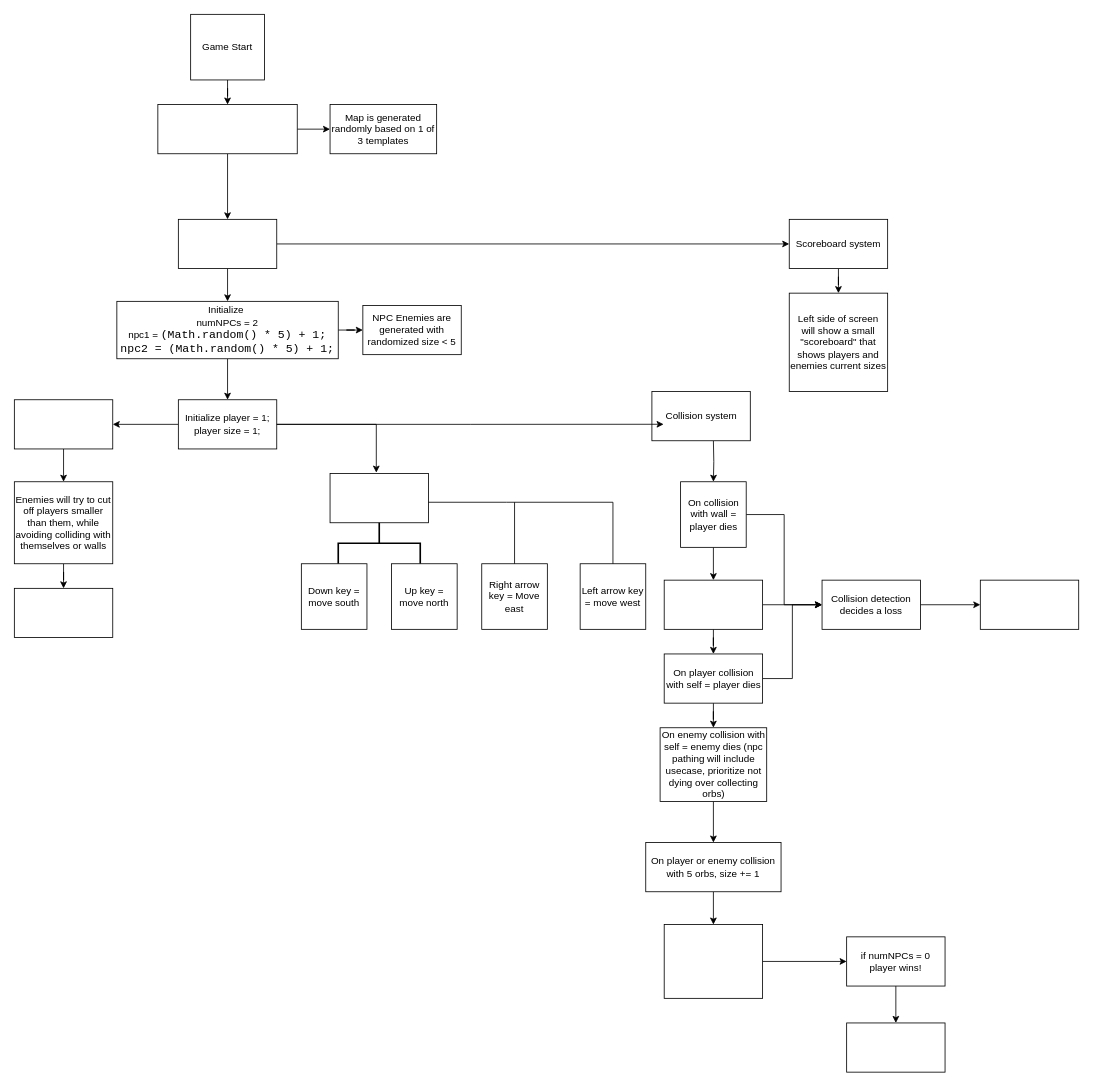
This 1093x1087 diagram has some shape labels left out. Here are the shapes that lost their labels. From the top down, the centre of each, then its label:
At pixel 227 129: "Initialize map = (Math.random() * 3) + 1;".
At pixel 227 244: "Add collision to walls based on template".
At pixel 63 424: "Enemy movement".
At pixel 378 498: "Player movement".
At pixel 63 613: "Enemies will also try to grab orbs to increase their own size".
At pixel 713 604: "On collision with enemy.size > player.size = player dies".
At pixel 1029 604: "Loss screen + Return to title".
At pixel 713 961: "On player collision with enemy size < player size = enemy dies numNPCs =- 1".
At pixel 895 1047: "Victory screen + Return to title".
